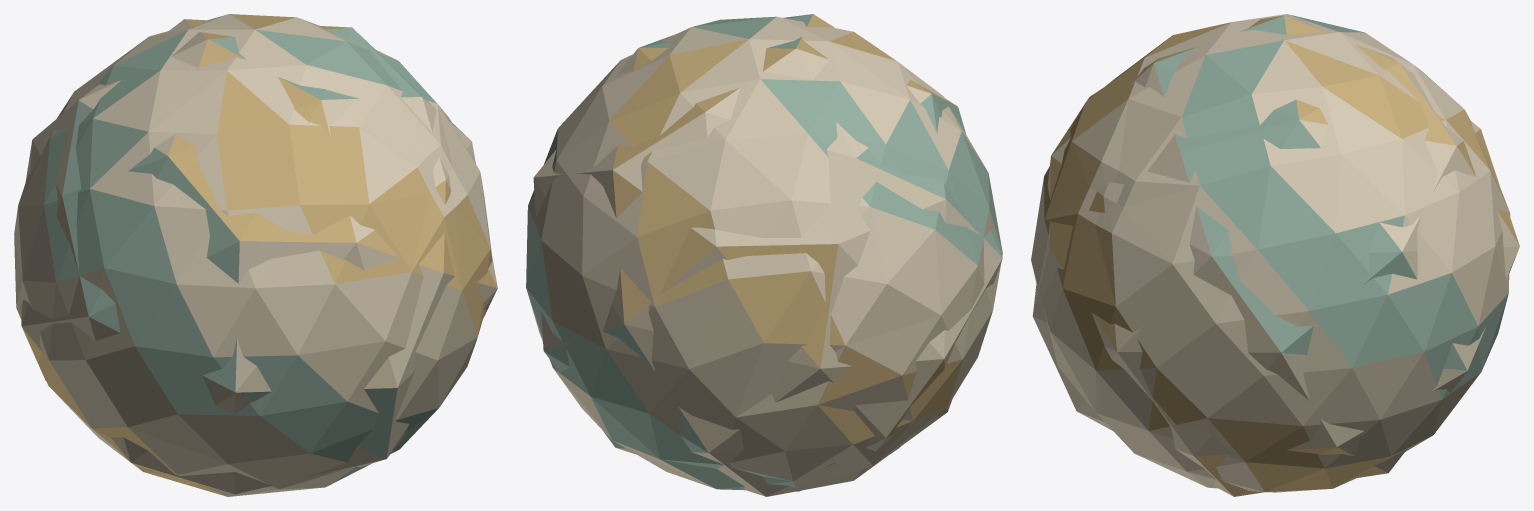
Rendered from pf_found_marble.glb.
3 views of the same model, side by side, from view 1: azimuth 30°, elevation 25°; view 2: azimuth 150°, elevation 25°; view 3: azimuth 270°, elevation 25° (orthographic).
Visible parts, largest first — view 1: body, body__far; view 2: body, body__far; view 3: body, body__far.
Boxes of the visible parts, box(x1,y1,x2,y2) form: body: box(14, 14, 492, 496); body__far: box(20, 19, 497, 494); body: box(526, 16, 1002, 491); body__far: box(533, 14, 1002, 496); body: box(1031, 14, 1510, 492); body__far: box(1032, 15, 1519, 496).
Bounding box in the file's own units: 0.3229 × 0.3252 × 0.3237.
